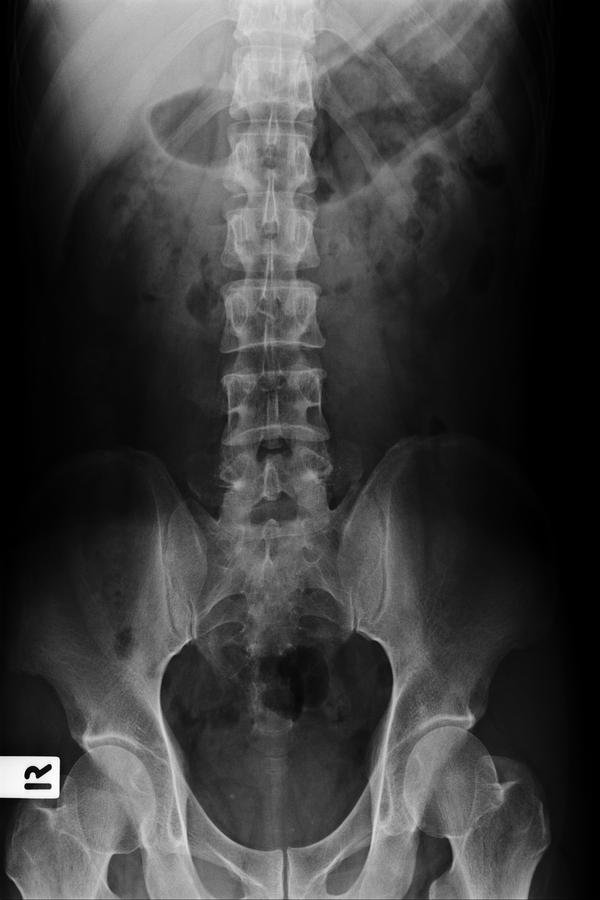lumbar scoliosis: (218, 16, 345, 557)
